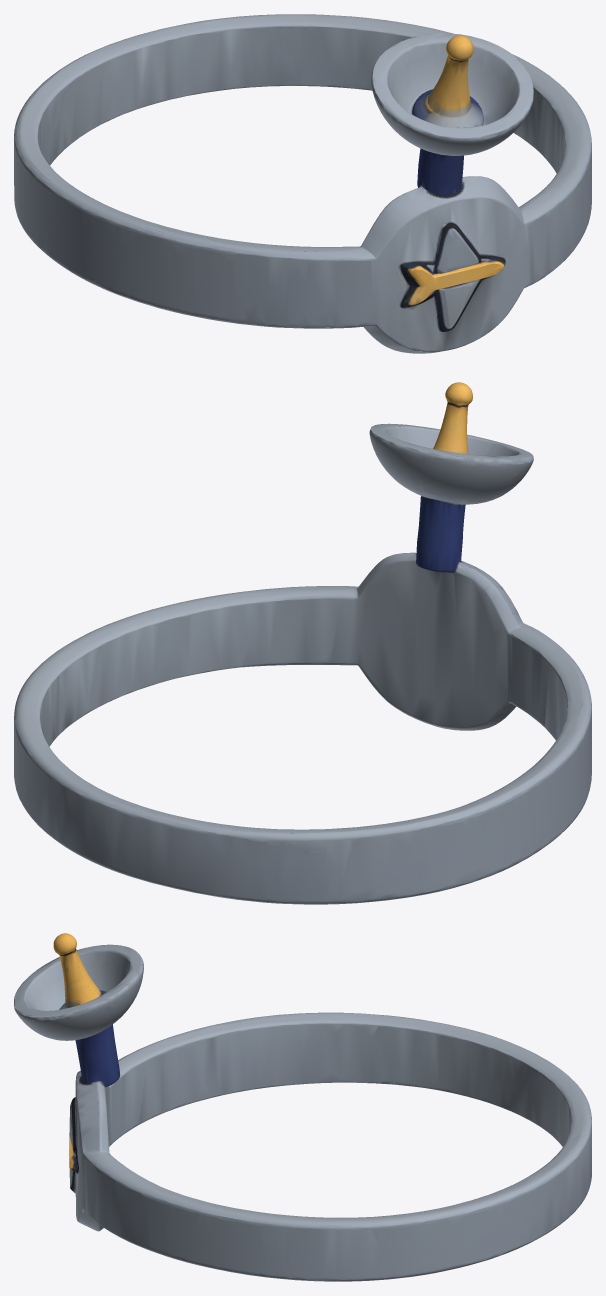
Rendered from sky-sense-final-shrunk.glb.
3 renders of one model, top to bottom at view 1: azimuth 30°, elevation 25°; view 2: azimuth 150°, elevation 25°; view 3: azimuth 270°, elevation 25°, orthographic. The views are drawn at different scales.
Parts seen in each view (by area): view 1: material; view 2: material; view 3: material.
Boxes of the visible parts, x1,y1,x2,y2 form: material: [14, 14, 591, 353]; material: [14, 382, 591, 904]; material: [14, 933, 591, 1281].
Bounding box in the file's own units: 0.4476 × 0.2835 × 0.5175.
Materials: 1 (1 with a texture image).
